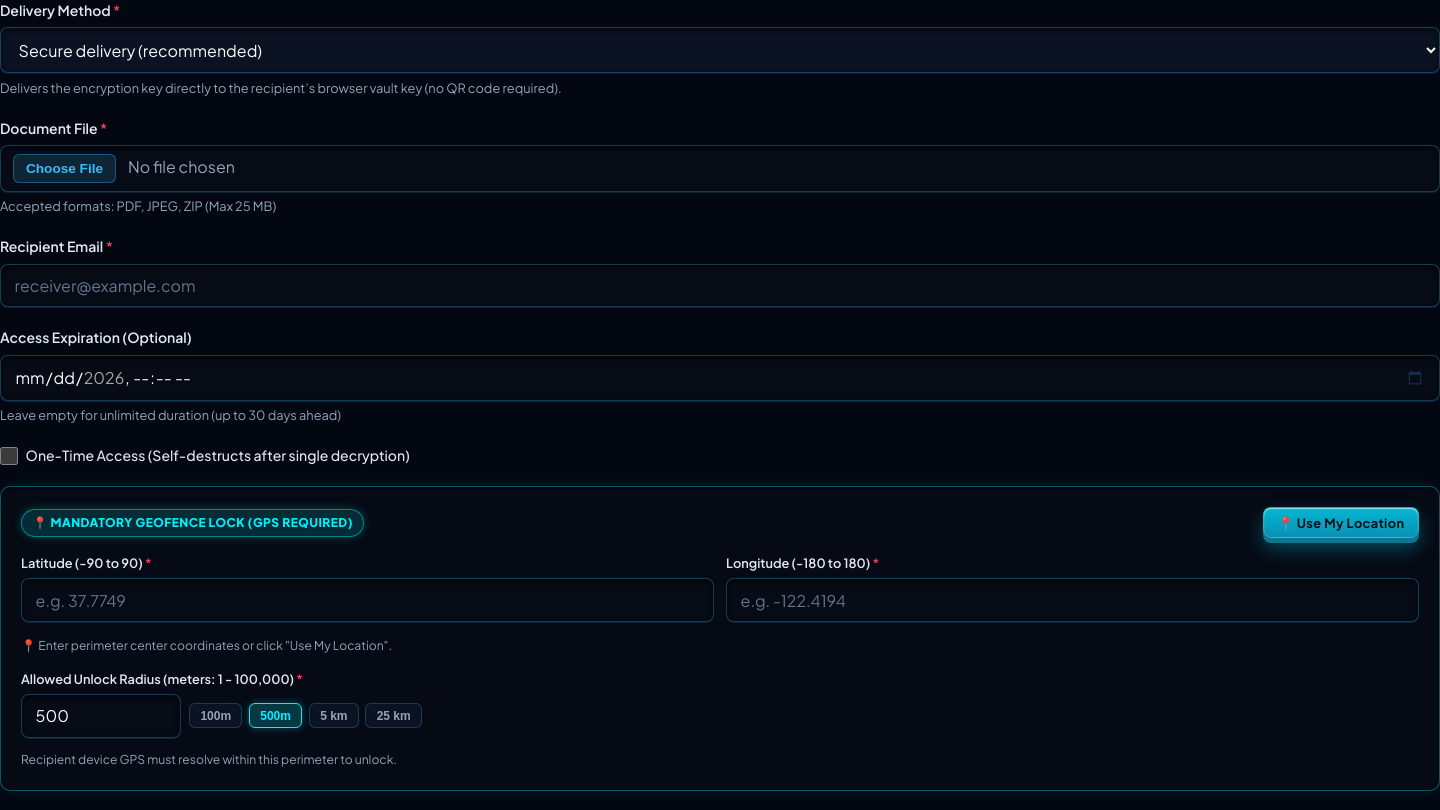
Test: UploadForm Component Tests › maps server error status codes (400, 404, 413, 429) to explicit user messages
Earlier steps of the test are not shown.
Later steps or results of the test are not shown.
Type "test@example.com" into the field labelled "Recipient Email *" at point(720, 286), box [0,264,1439,308]
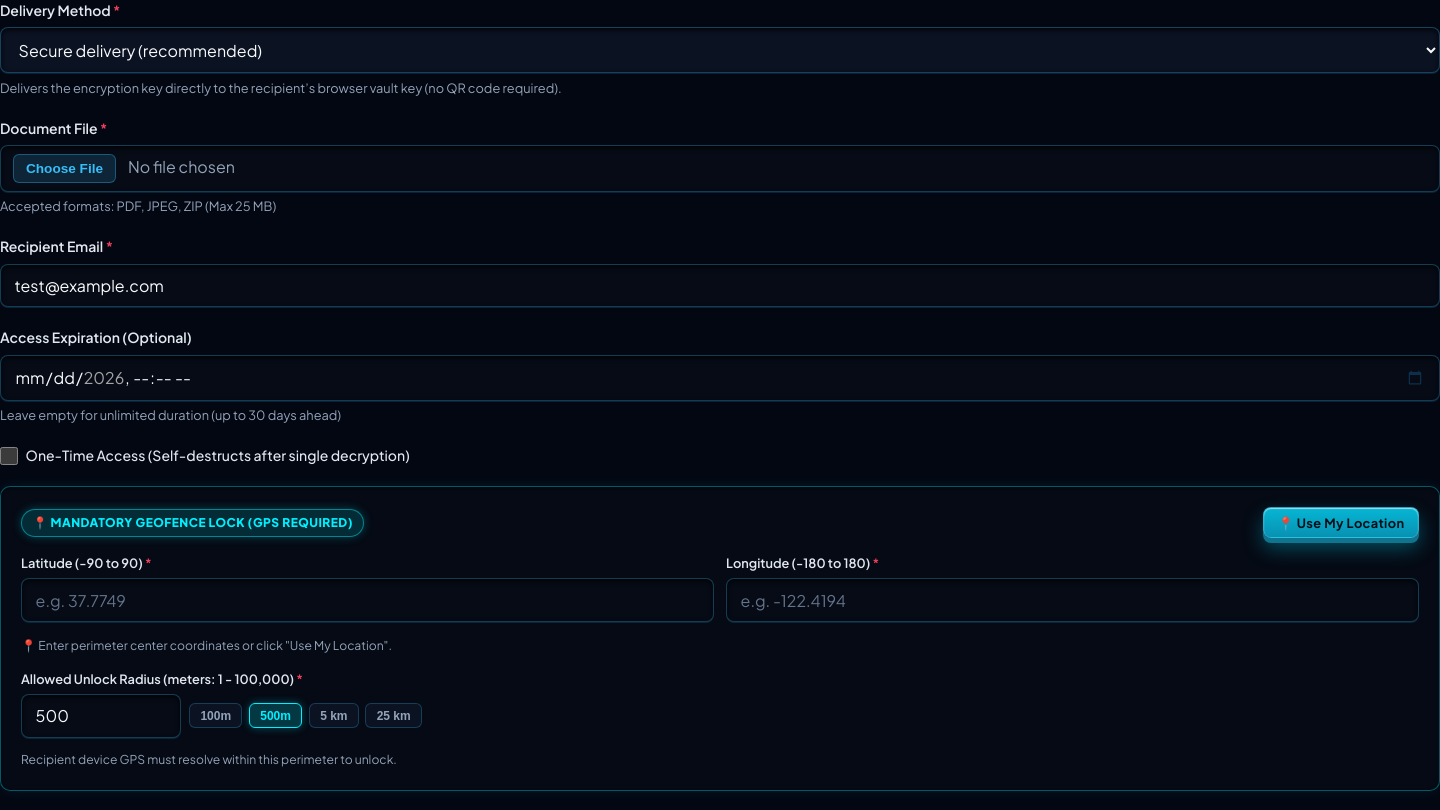
Type "37.7749" into the number field labelled "Latitude (-90 to 90) *" at point(368, 600), box [21,578,714,622]
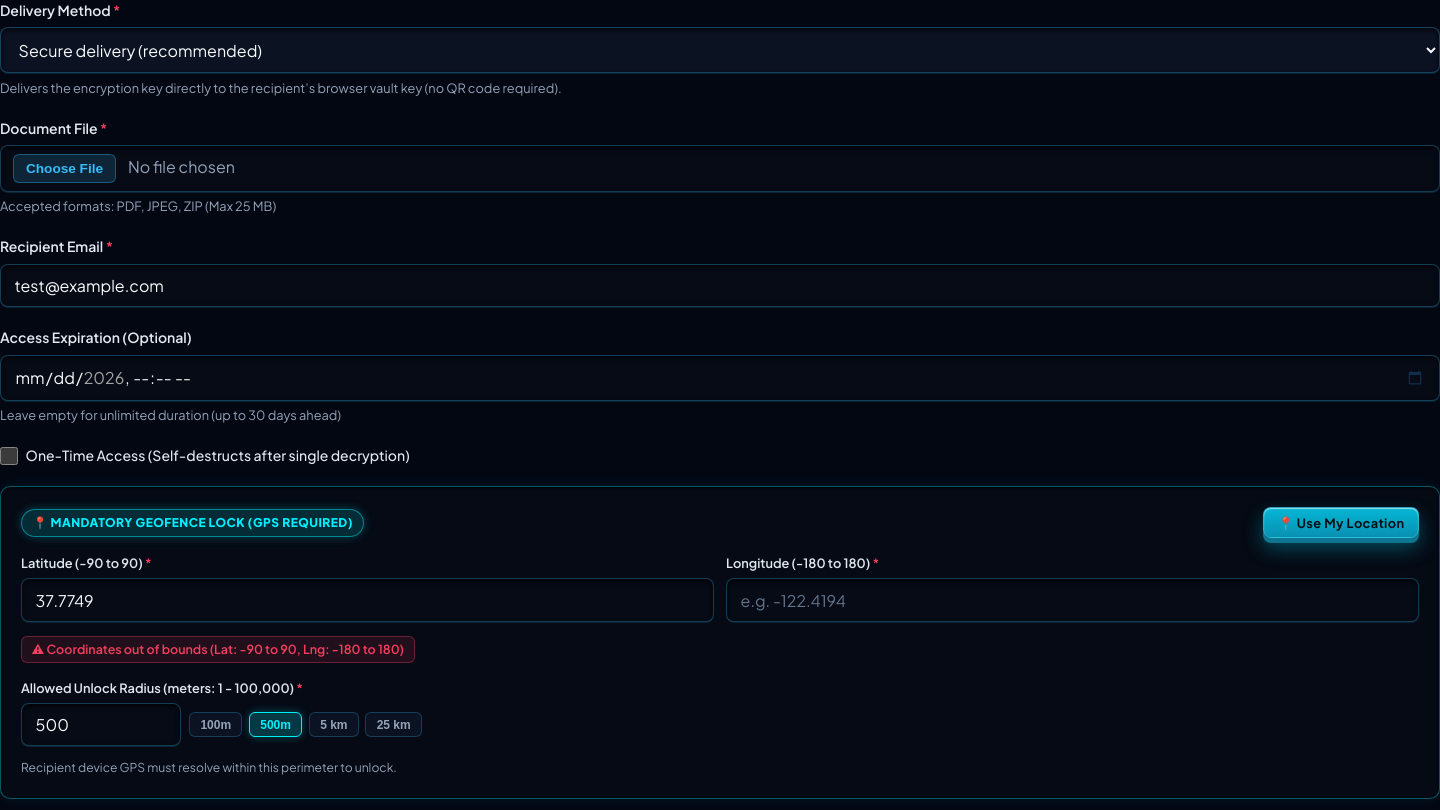
Type "-122.4194" into the number field labelled "Longitude (-180 to 180) *" at point(1072, 600), box [726,578,1419,622]
(page scrolled)
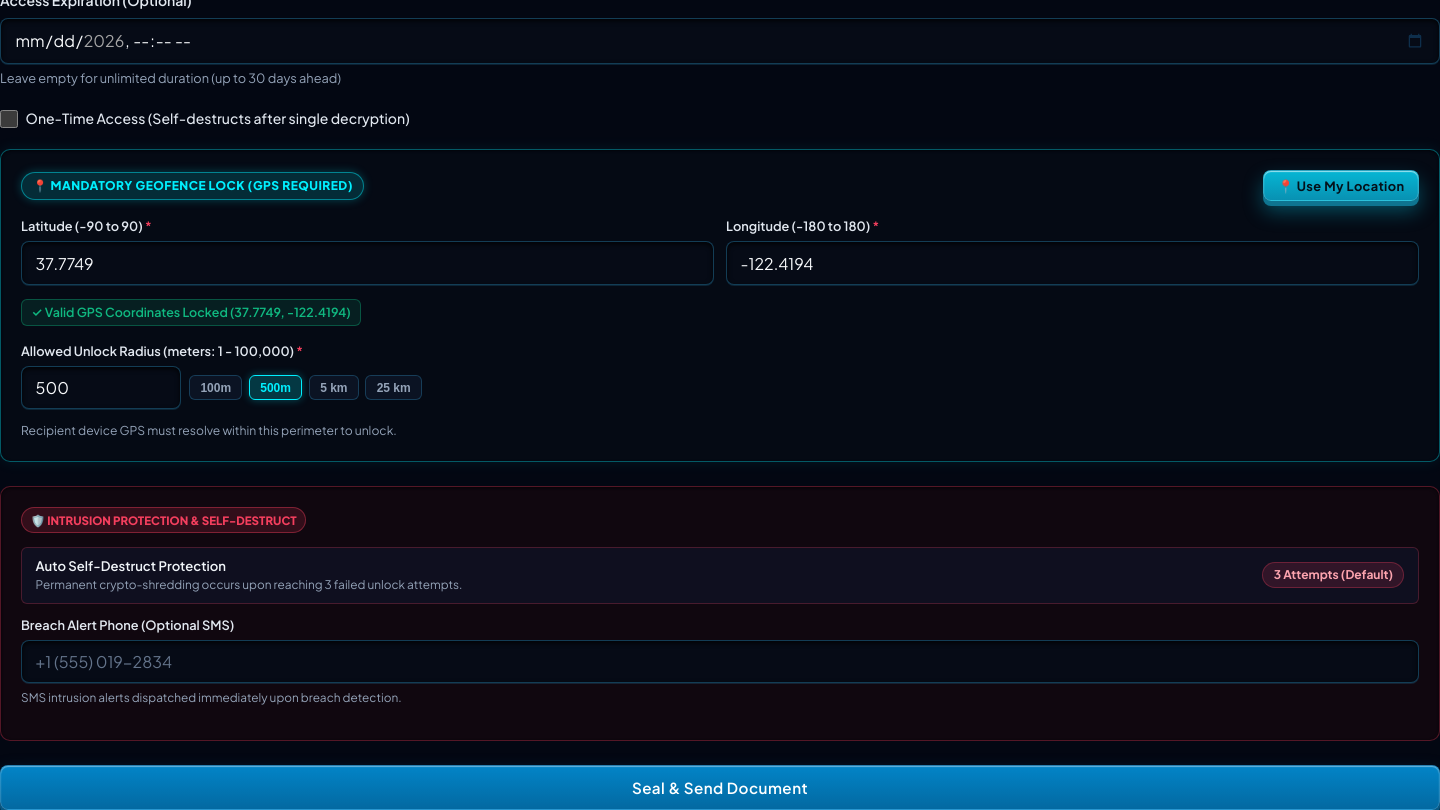
Click the button "Seal & Send Document" at point(720, 788), box [0,765,1439,809]
(page scrolled)
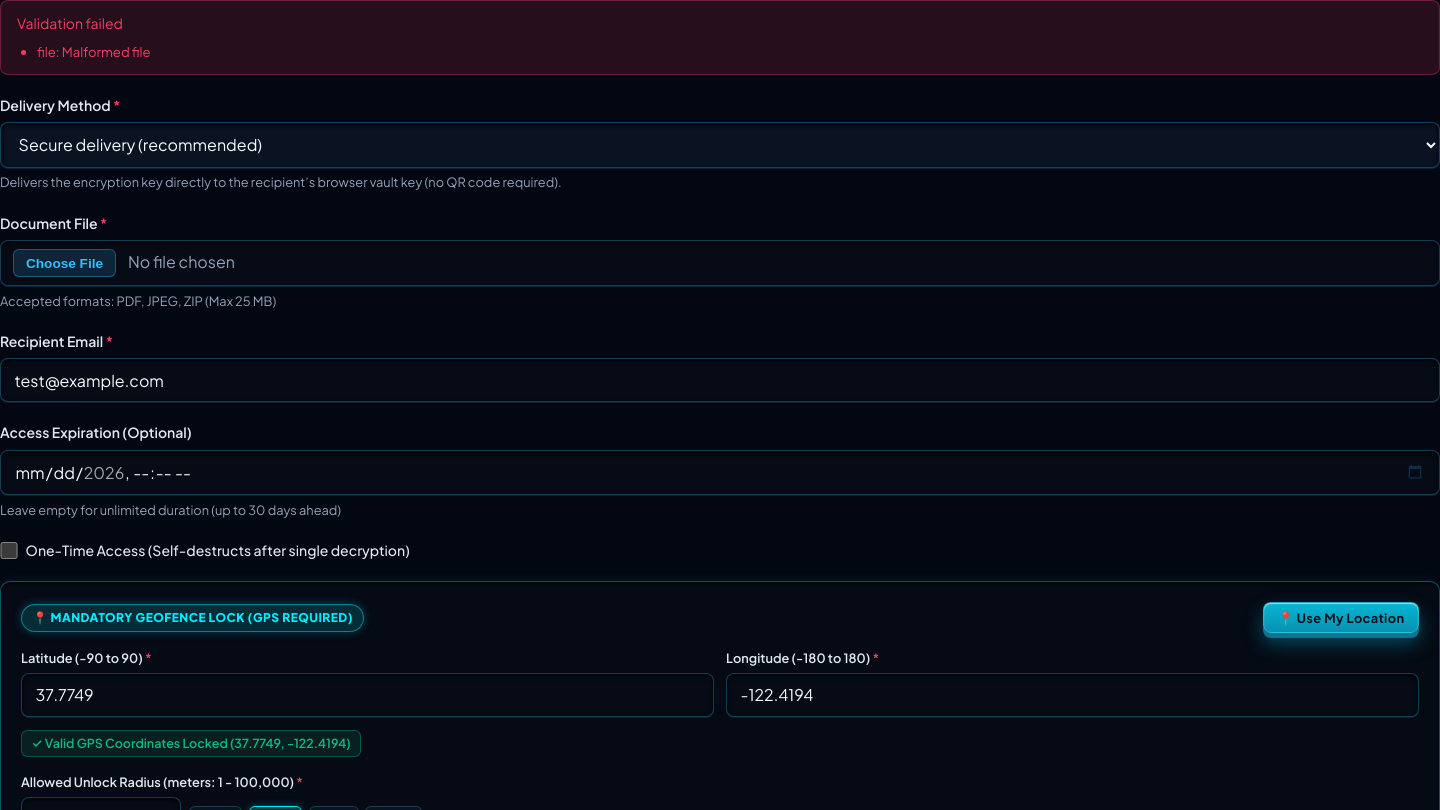
Expected: the list item "file: Malformed file" is shown, [37,43,151,60]
